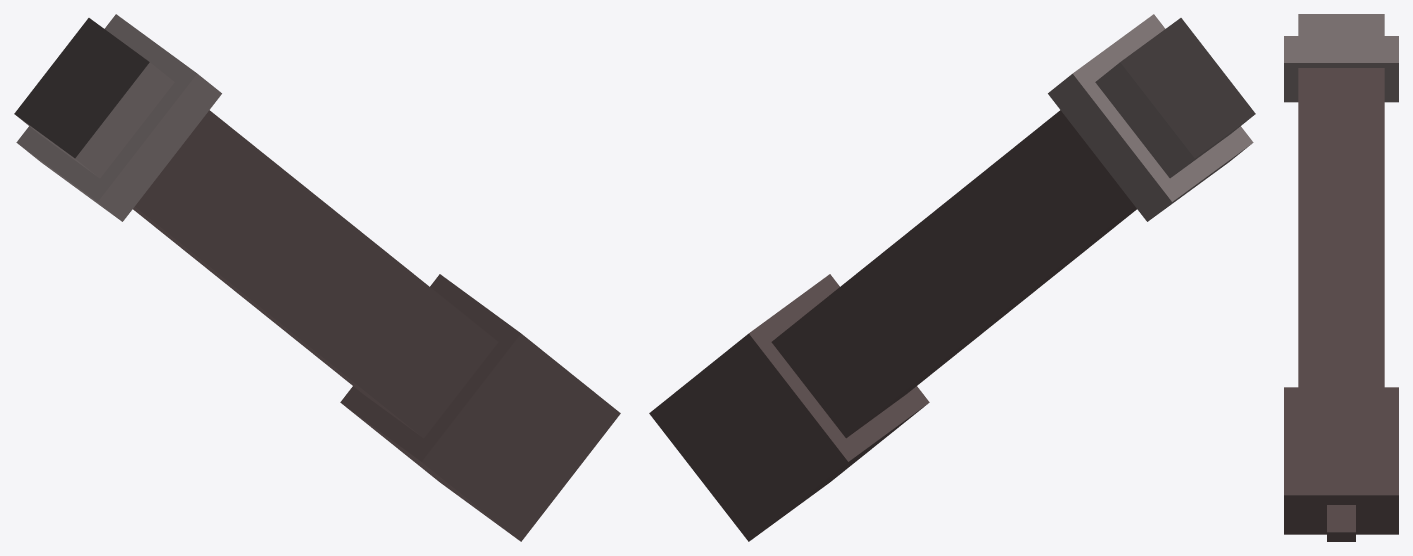
The model's file is Cyan Paintball.glb.
3 views of the same model, side by side, from view 1: azimuth 30°, elevation 25°; view 2: azimuth 150°, elevation 25°; view 3: azimuth 270°, elevation 25° (orthographic). The views are drawn at different scales.
Visible parts, largest first — view 1: blade, handle; view 2: blade, handle; view 3: blade, handle.
Part boxes in pixels (x1,y1,x2,y2): blade: (14,14,498,438); handle: (340,274,620,541); blade: (771,14,1255,438); handle: (649,274,929,541); blade: (1284,14,1398,541); handle: (1284,387,1398,534).
Bounding box in the file's own units: 15.2 × 15.2 × 4.
Materials: 1 (1 with a texture image).
